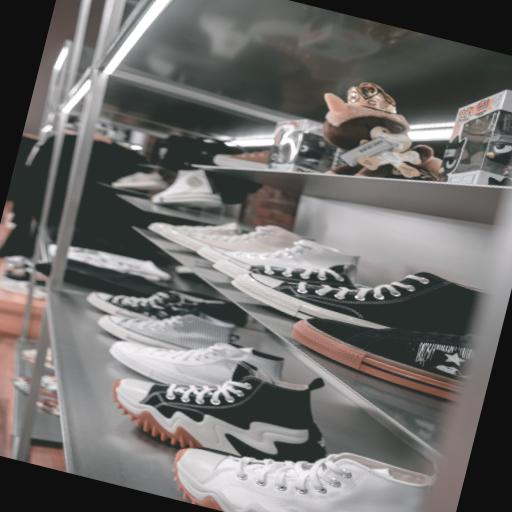shoe: (113, 362, 325, 461), (174, 449, 433, 511), (232, 273, 484, 335), (292, 318, 475, 400), (110, 341, 283, 386), (198, 240, 359, 288), (98, 313, 235, 351), (87, 291, 238, 323), (67, 246, 171, 282), (167, 225, 303, 252), (151, 170, 222, 208), (149, 222, 242, 242), (112, 172, 168, 191), (213, 150, 269, 169), (0, 279, 29, 295), (2, 269, 31, 283), (5, 255, 33, 268)
